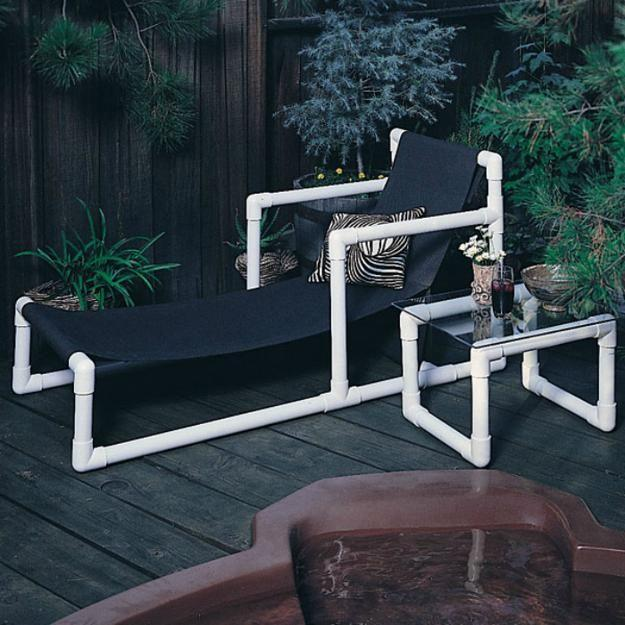PVC: (120, 405, 313, 449), (328, 227, 358, 398), (67, 353, 102, 474), (461, 349, 496, 464), (395, 315, 429, 426), (268, 177, 388, 206), (479, 151, 510, 262), (525, 369, 585, 425), (361, 215, 478, 241), (591, 327, 618, 434), (241, 194, 268, 293), (15, 289, 34, 397)
